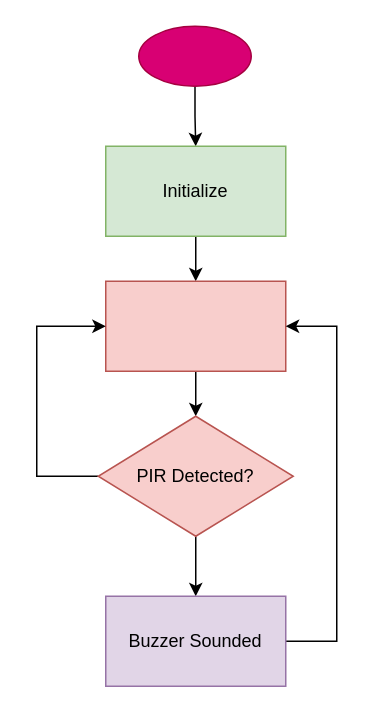
Image size: 375x713. Some labels were removed from this diagram. Here are the shapes that lost their labels. From the top down, the box of each, then its label:
(137, 25, 251, 86): Start
(104, 280, 286, 371): Check PIR Sensor
